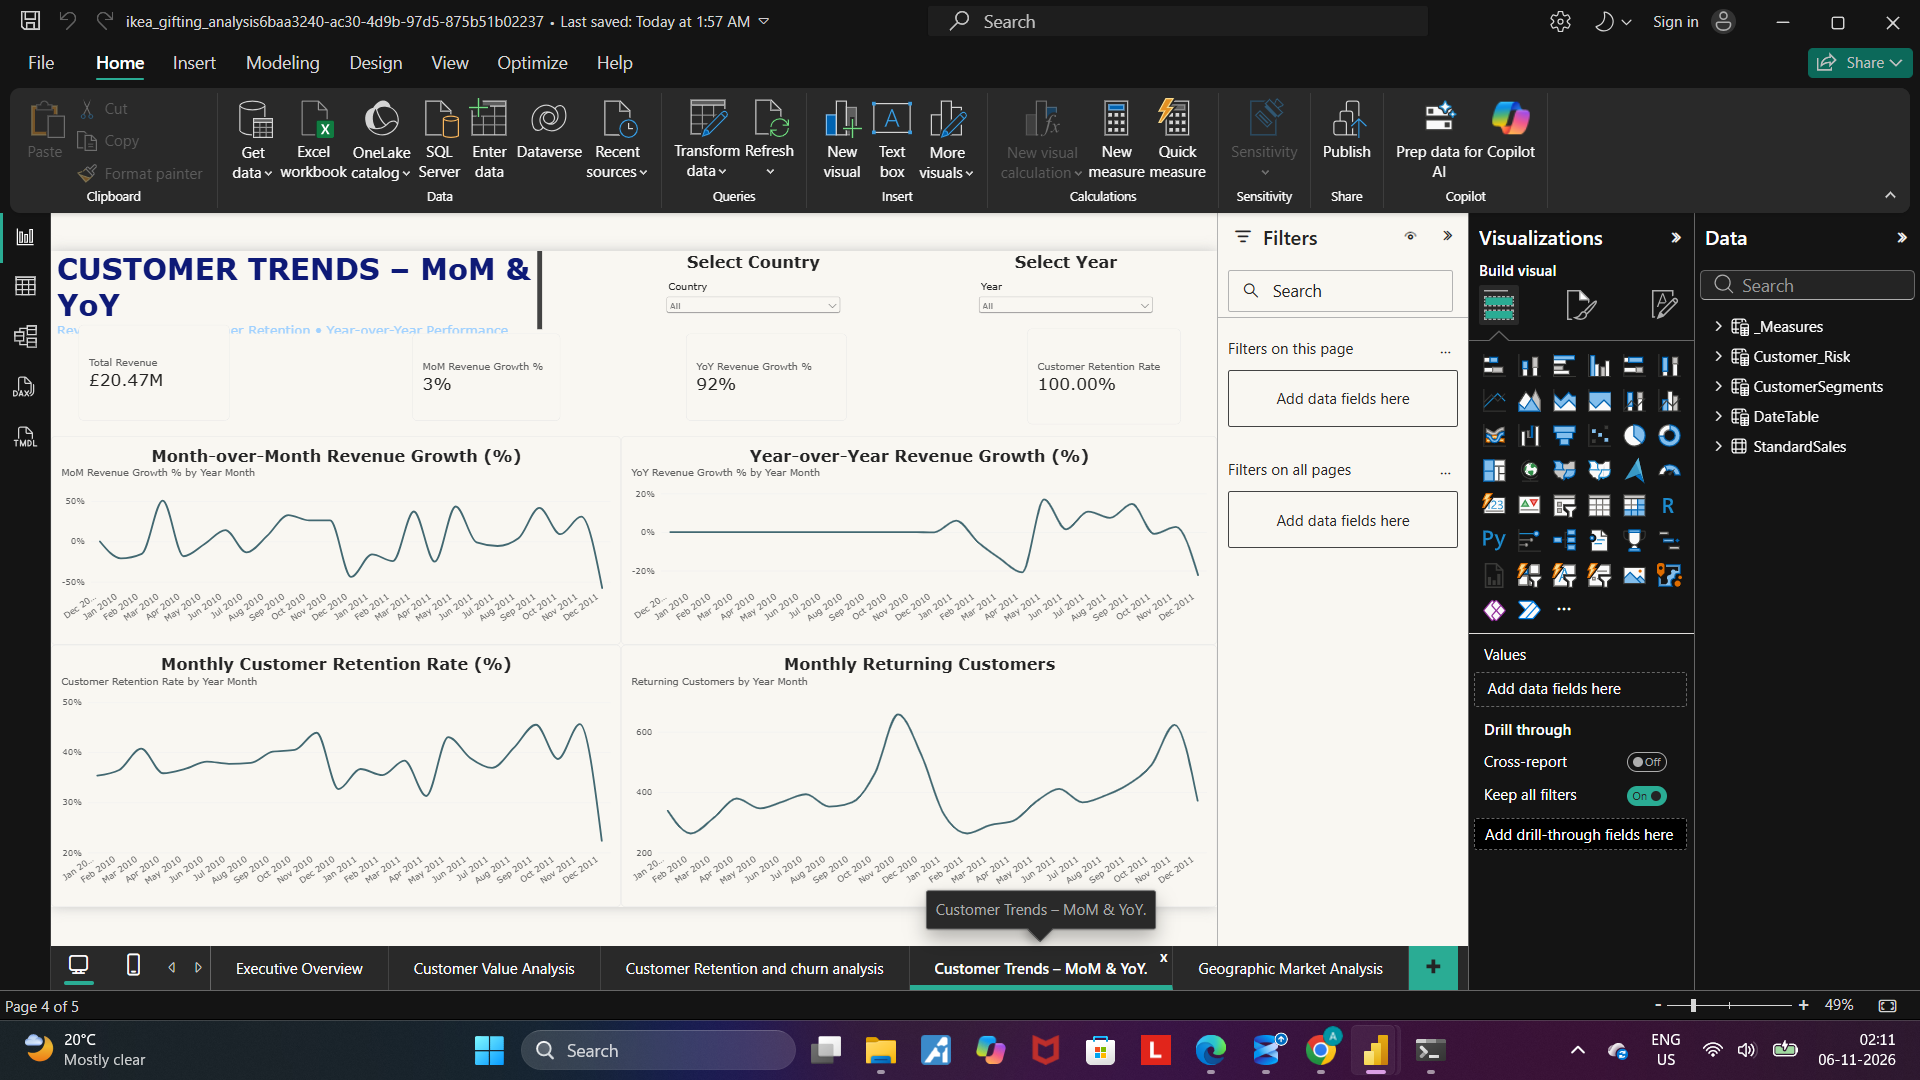

The dashboard page shown, as its layout file describes it:
{"tool":"powerbi","page":{"name":"Customer Trends – MoM & YoY.","canvas":[1920,1080],"ordinal":3},"visuals":[{"type":"textbox","box":[10.3,0,798.6,135.8],"z":0},{"type":"cardVisual","fields":{"Data":["Customer_Risk.Total Revenue"]},"box":[45.3,121.4,249.1,158.5],"z":1},{"type":"cardVisual","fields":{"Data":["_Measures.MoM Revenue Growth %"]},"box":[594.9,135.8,244.9,144.1],"z":2},{"type":"cardVisual","fields":{"Data":["_Measures.YoY Revenue Growth %"]},"box":[1045.6,135.8,265.5,144.1],"z":3},{"type":"cardVisual","fields":{"Data":["_Measures.Customer Retention Rate"]},"box":[1607.6,127.6,253.2,158.5],"z":4},{"type":"lineChart","title":"Month-over-Month Revenue Growth (%)","fields":{"Category":["DateTable.Year Month"],"Y":["_Measures.MoM Revenue Growth %"]},"box":[0,304.6,938.6,343.7],"z":5},{"type":"lineChart","title":"Year-over-Year Revenue Growth (%)","fields":{"Category":["DateTable.Year Month"],"Y":["_Measures.YoY Revenue Growth %"]},"box":[938.6,304.6,981.8,343.7],"z":6},{"type":"lineChart","title":"Monthly Returning Customers","fields":{"Category":["DateTable.Year Month"],"Y":["_Measures.Returning Customers"]},"box":[938.6,648.4,981.8,432.2],"z":7},{"type":"lineChart","title":"Monthly Customer Retention Rate (%)","fields":{"Category":["DateTable.Year Month"],"Y":["_Measures.Customer Retention Rate"]},"box":[0,648.4,938.6,432.2],"z":8},{"type":"slicer","title":"Select Country","fields":{"Values":["StandardSales.Country"]},"box":[1008.6,0,296.4,152.3],"z":9},{"type":"slicer","title":"Select Year","fields":{"Values":["StandardSales.Year"]},"box":[1523.2,0,296.4,152.3],"z":10}]}

Visuals, with their boxes on the page's 1920x1080 design canvas (x1, y1, x2, y2). These are canvas units, not pixel positions in the 1920x1080 screenshot, which may show the page scaled, cropped or inside an application window:
textbox: select_region(10, 0, 809, 136)
cardVisual - Customer_Risk.Total Revenue: select_region(45, 121, 294, 280)
cardVisual - _Measures.MoM Revenue Growth %: select_region(595, 136, 840, 280)
cardVisual - _Measures.YoY Revenue Growth %: select_region(1046, 136, 1311, 280)
cardVisual - _Measures.Customer Retention Rate: select_region(1608, 128, 1861, 286)
"Month-over-Month Revenue Growth (%)" lineChart: select_region(0, 305, 939, 648)
"Year-over-Year Revenue Growth (%)" lineChart: select_region(939, 305, 1920, 648)
"Monthly Returning Customers" lineChart: select_region(939, 648, 1920, 1081)
"Monthly Customer Retention Rate (%)" lineChart: select_region(0, 648, 939, 1081)
"Select Country" slicer: select_region(1009, 0, 1305, 152)
"Select Year" slicer: select_region(1523, 0, 1820, 152)
